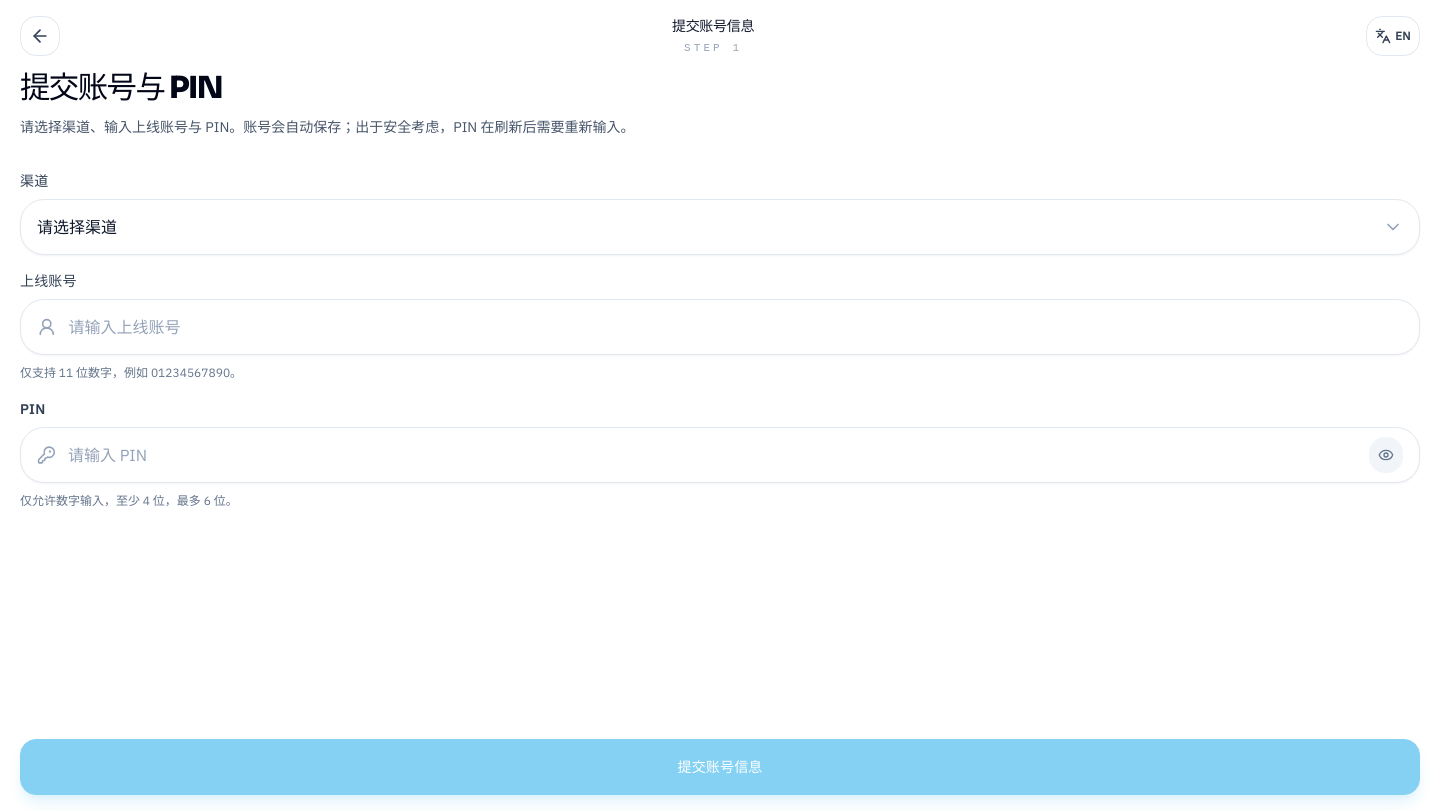
Telegram Mini App flow › keeps account and PIN inputs numeric with the required limits
Expected: the heading "提交账号与 PIN" is shown, [20,68,222,106]
Type "abc01234567890123" into the field with placeholder "请输入上线账号" at (736, 327), box [68,315,1403,339]
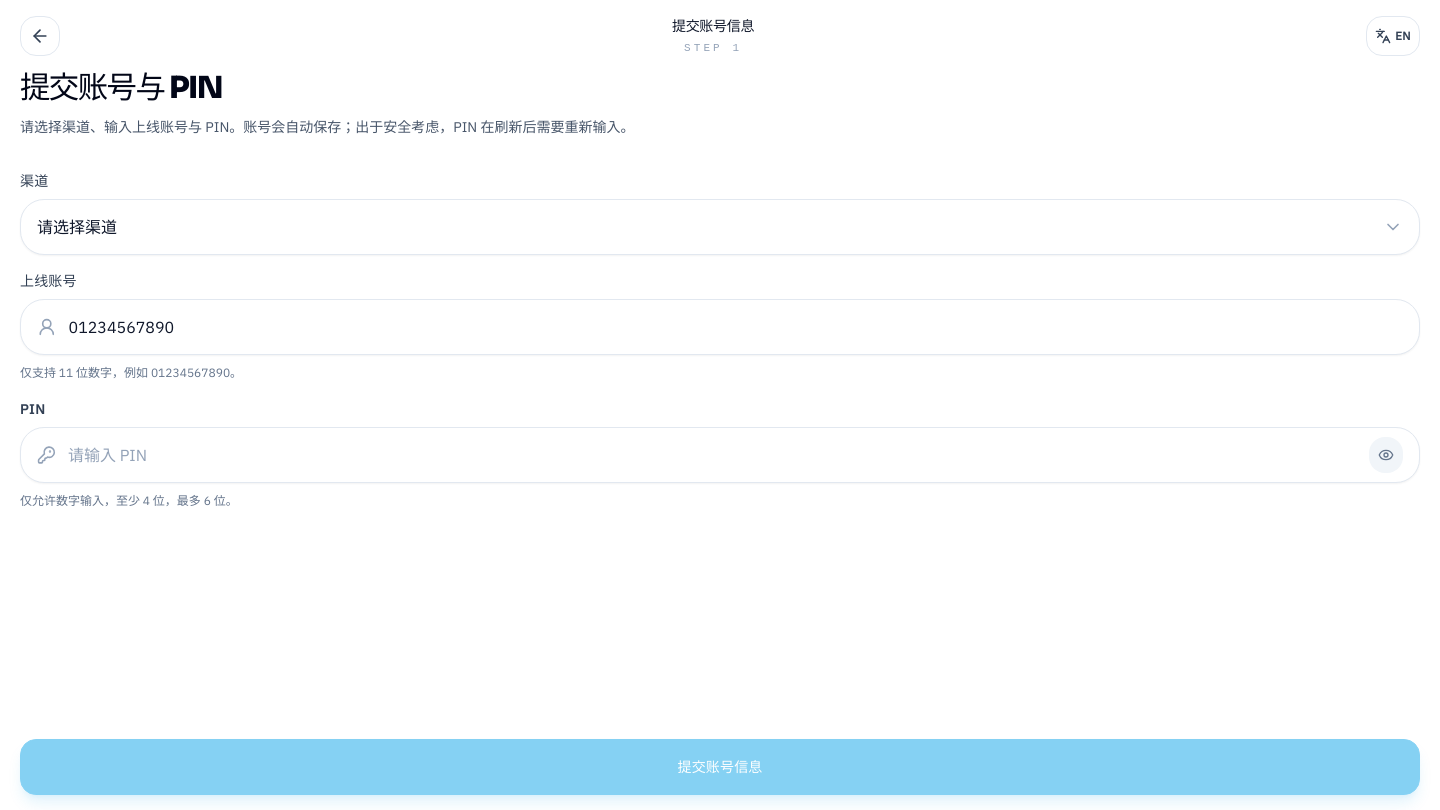
Type "12ab345678" into the password field with placeholder "请输入 PIN" at (712, 455), box [68,443,1357,467]
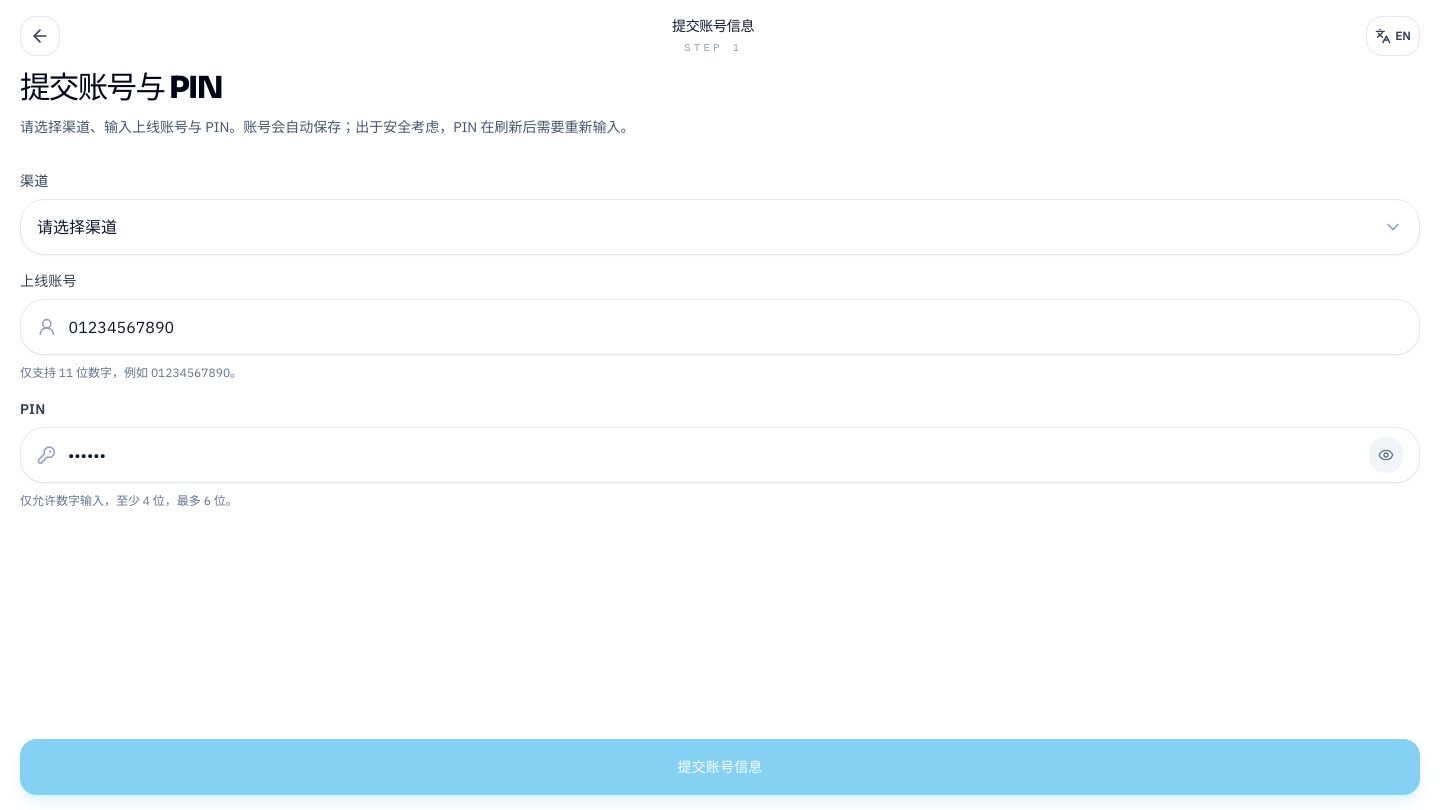
Expected: the field with placeholder "请输入上线账号" holds "01234567890", [68,315,1403,339]
Expected: the password field with placeholder "请输入 PIN" holds "123456", [68,443,1357,467]
